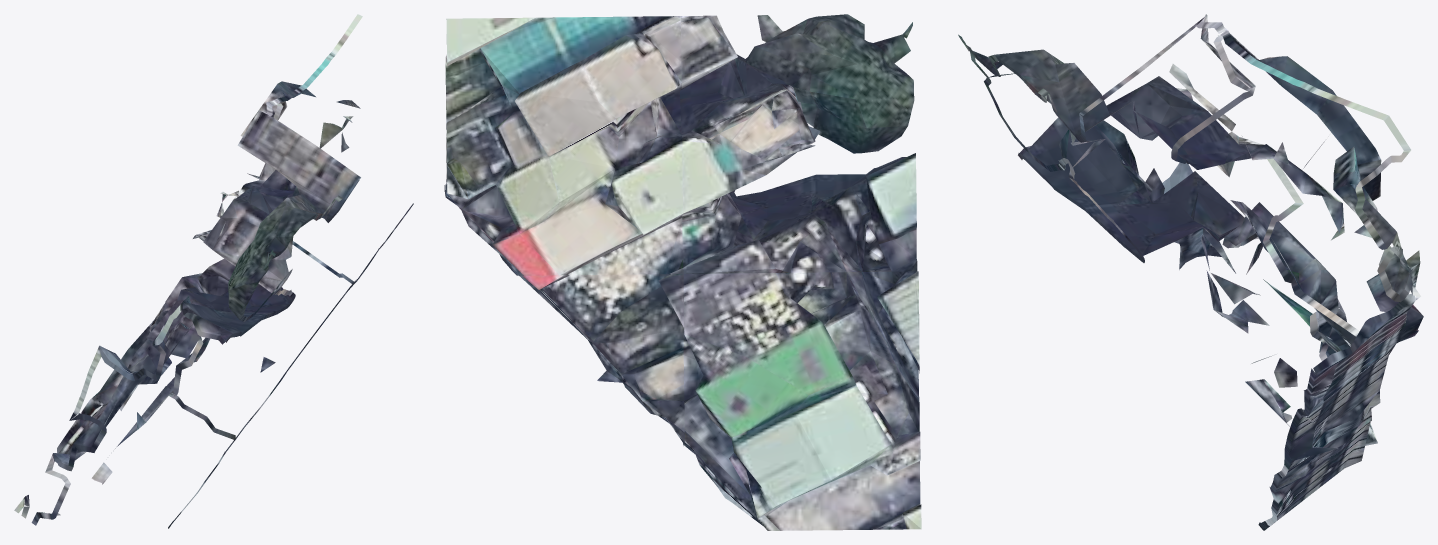
The picture shows the model from 3 angles, left to right: view 1: azimuth 30°, elevation 25°; view 2: azimuth 150°, elevation 25°; view 3: azimuth 270°, elevation 25°; orthographic projection. The views are drawn at different scales.
Bounding box in the file's own units: 39.94 × 39.51 × 29.63.
2 materials, 2 textured.
